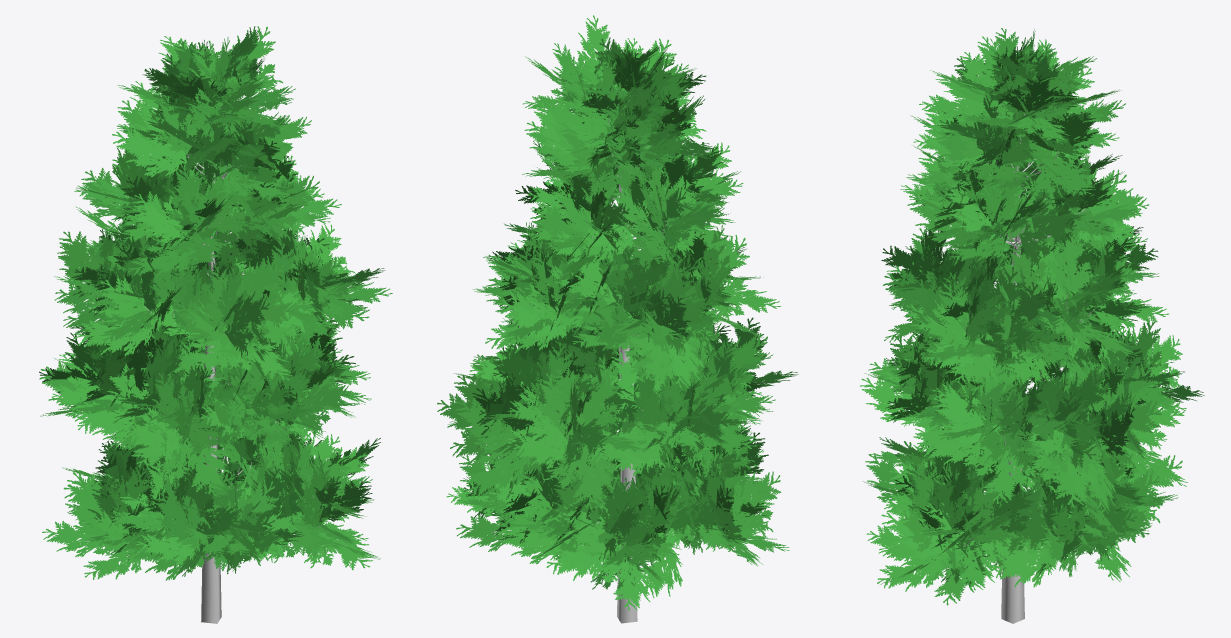
Rendered from treetest.fbx.
The picture shows the model from 3 angles, left to right: view 1: azimuth 30°, elevation 25°; view 2: azimuth 150°, elevation 25°; view 3: azimuth 270°, elevation 25°; orthographic projection.
Visible parts, largest first — view 1: leaves, tree; view 2: leaves, tree; view 3: leaves, tree.
Part boxes in pixels (x1,y1,x2,y2): leaves: (39, 26, 392, 580); tree: (112, 106, 319, 623); leaves: (437, 15, 798, 610); tree: (515, 89, 702, 623); leaves: (860, 28, 1204, 605); tree: (925, 104, 1104, 623).
Size of the model in its own units: 213 by 369 by 210.
